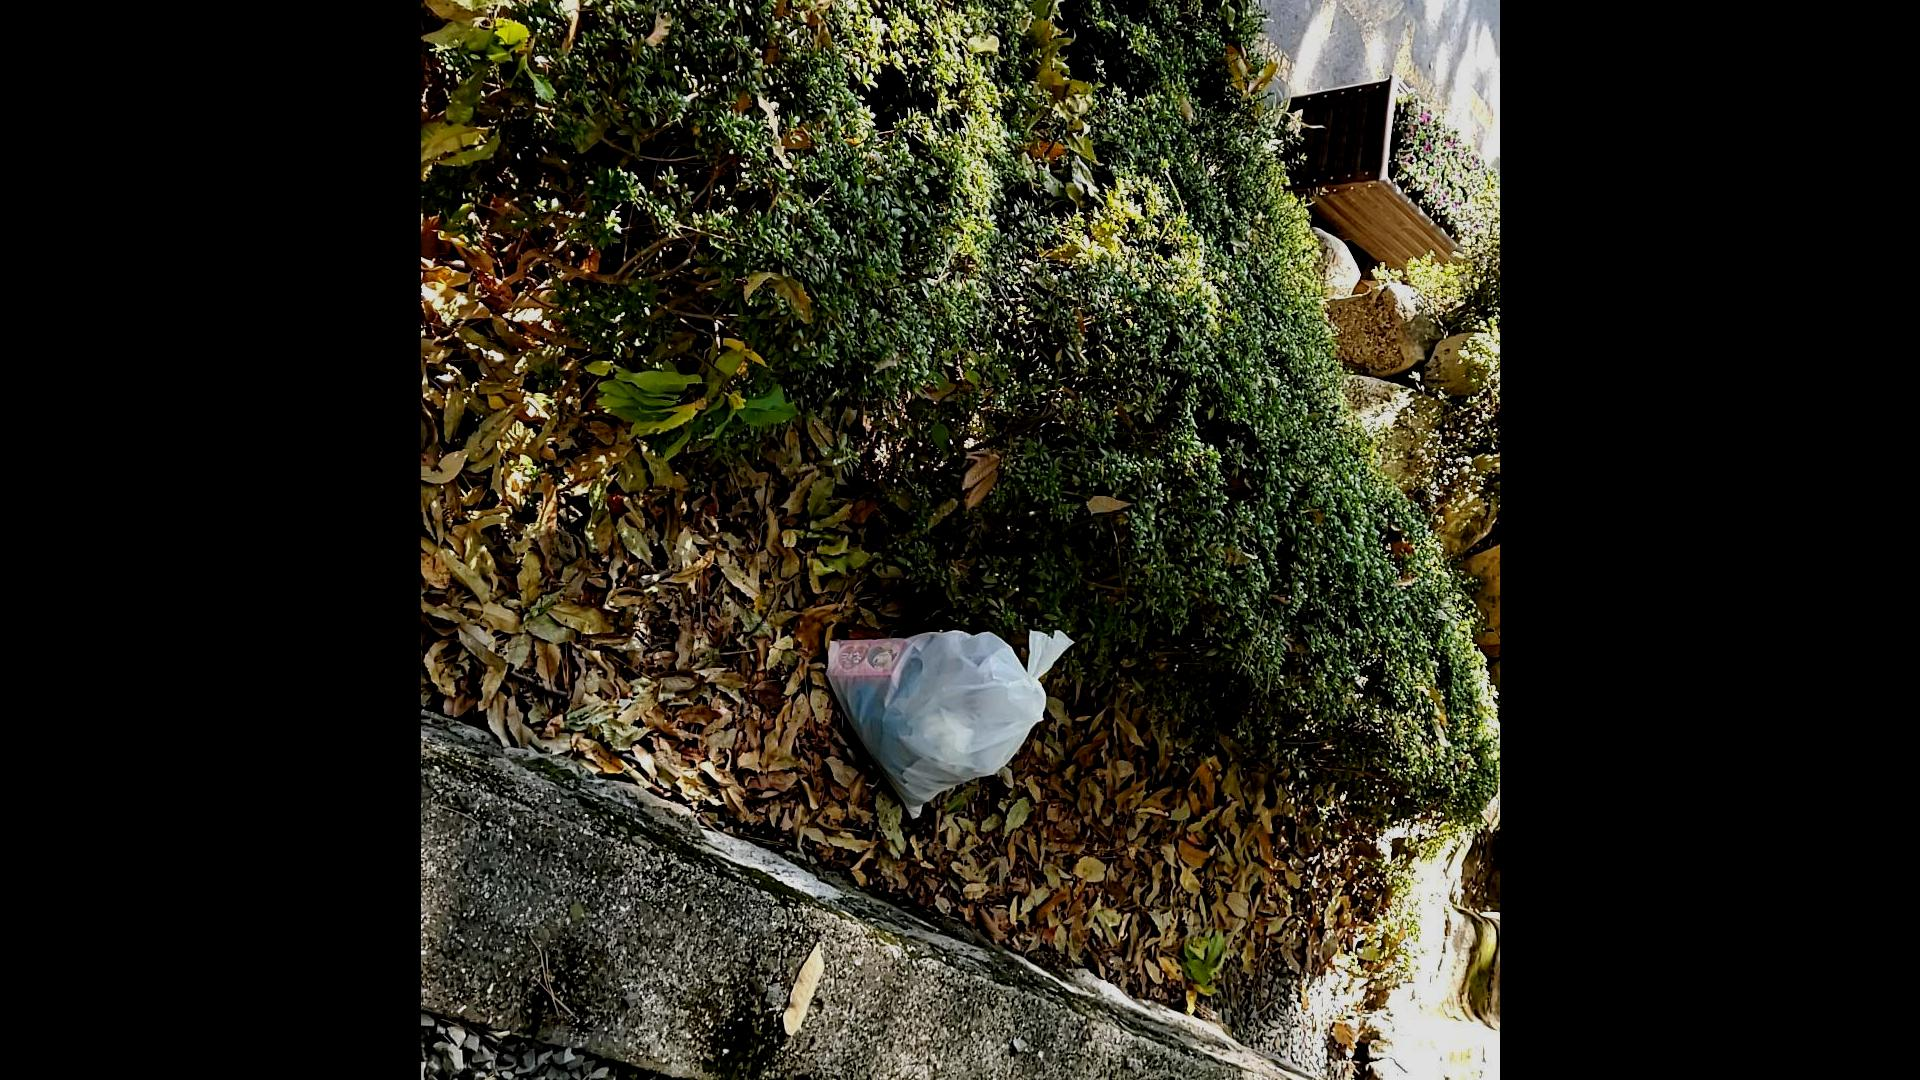white_bag: (814, 596, 1083, 829)
